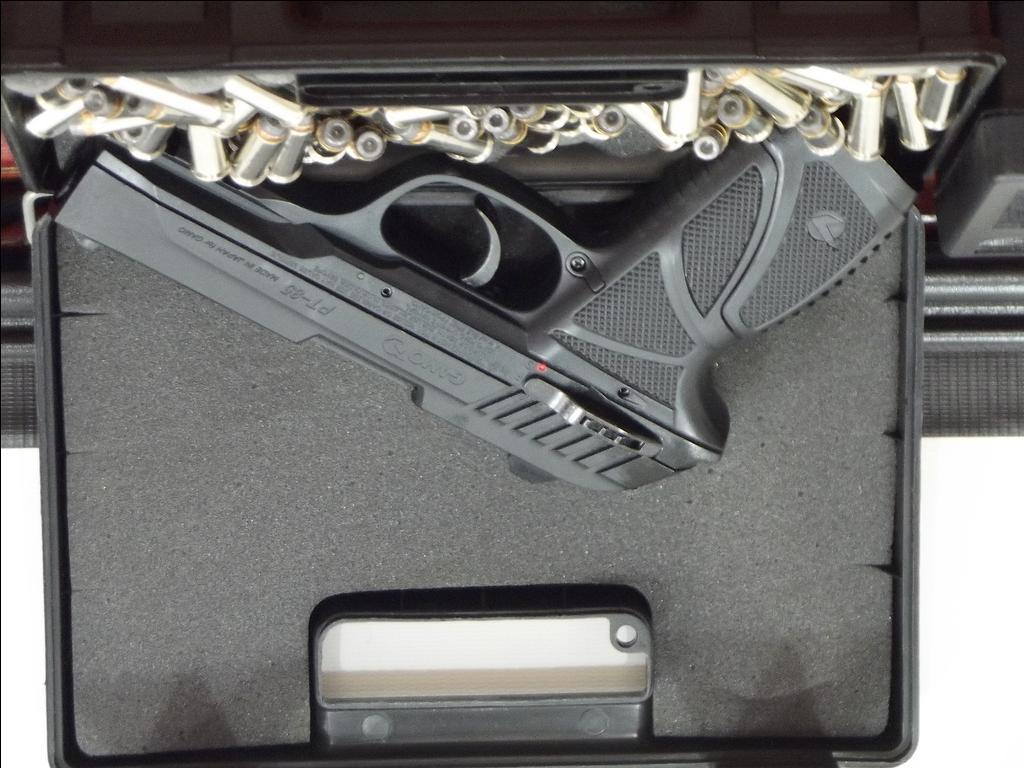gun: (47, 62, 921, 502)
